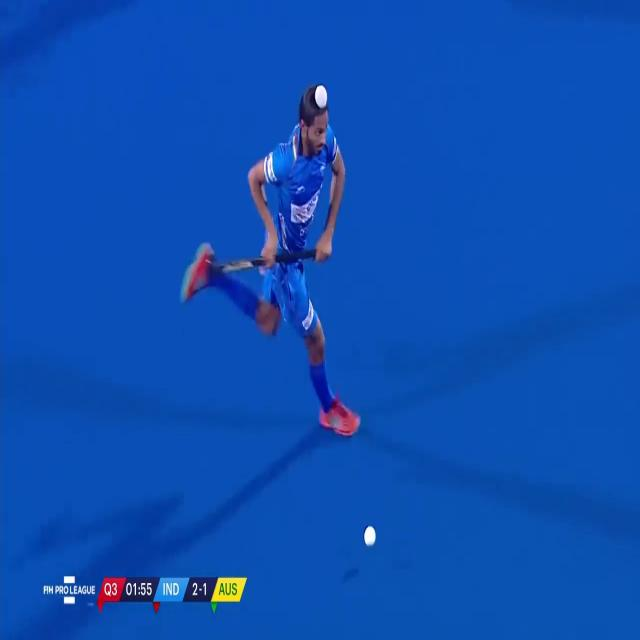ball: (356, 513, 382, 554)
